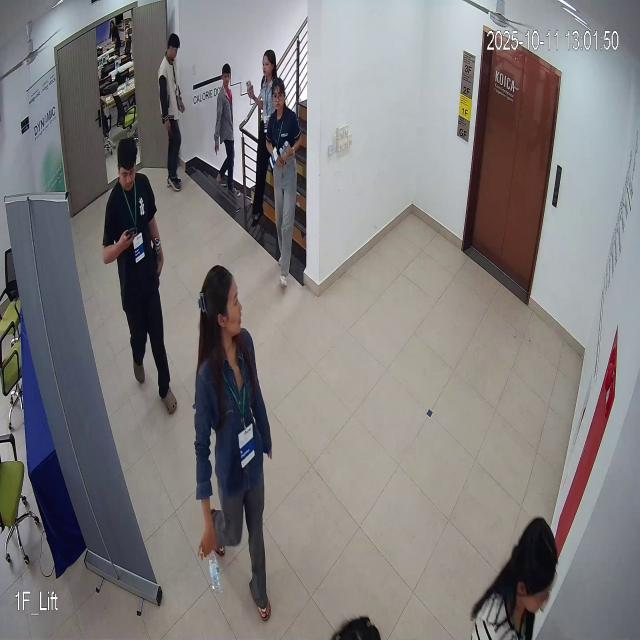face: (112, 133, 142, 203)
